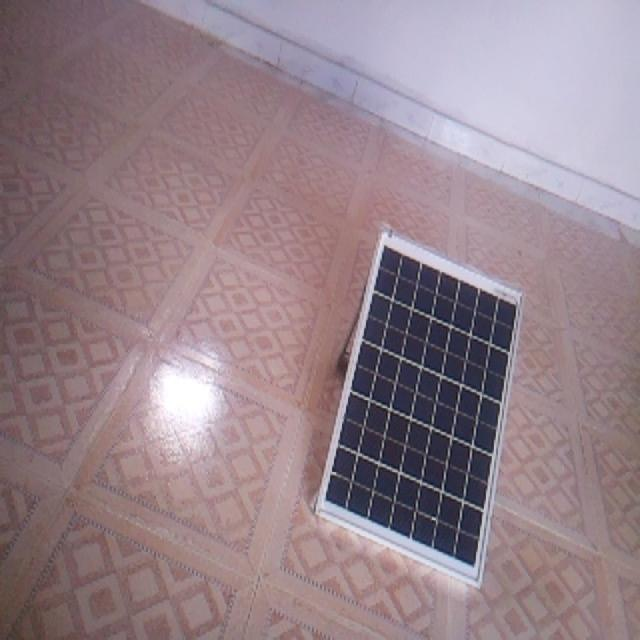Normal Solar Panel: (318, 231, 524, 588)
